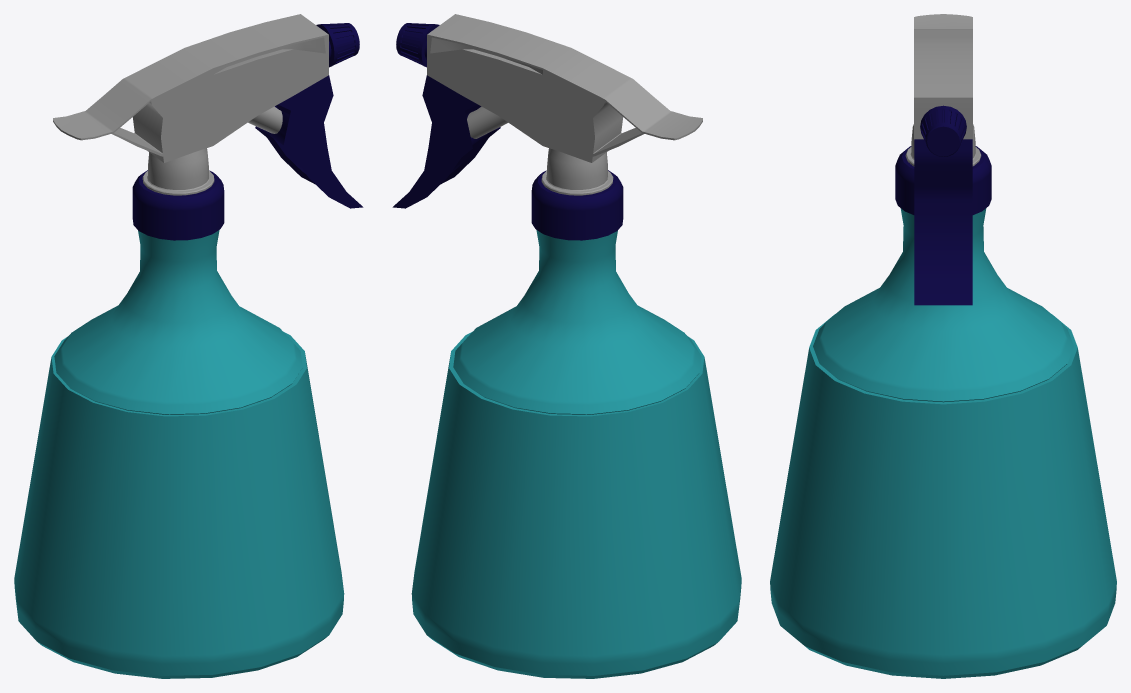
Rendered from SprayBottleModel.fbx.
The picture shows the model from 3 angles, left to right: view 1: azimuth 30°, elevation 25°; view 2: azimuth 150°, elevation 25°; view 3: azimuth 270°, elevation 25°; orthographic projection. The views are drawn at different scales.
Parts seen in each view (by area): view 1: BottlemainBase, pCylinder2, SprayBottleTop, pCube1, pCylinder1, BottleMid, BottleTip, pCylinder3; view 2: BottlemainBase, pCylinder2, SprayBottleTop, pCube1, pCylinder1, BottleMid, BottleTip, pCylinder3; view 3: BottlemainBase, pCylinder2, pCube1, SprayBottleTop, pCylinder1, BottleTip.
Part boxes in pixels (x1,y1,x2,y2): BottlemainBase: (14, 331, 344, 678); pCylinder2: (54, 230, 302, 414); SprayBottleTop: (53, 14, 328, 162); pCube1: (255, 75, 363, 208); pCylinder1: (132, 170, 224, 240); BottleMid: (142, 148, 214, 195); BottleTip: (316, 23, 359, 67); pCylinder3: (248, 106, 282, 133); BottlemainBase: (411, 331, 741, 678); pCylinder2: (453, 230, 701, 414); SprayBottleTop: (427, 14, 702, 162); pCube1: (392, 75, 500, 208); pCylinder1: (531, 170, 623, 240); BottleMid: (541, 148, 613, 195); BottleTip: (396, 23, 439, 67); pCylinder3: (467, 106, 507, 138); BottlemainBase: (770, 314, 1116, 678); pCylinder2: (813, 208, 1073, 402); pCube1: (914, 139, 972, 305); SprayBottleTop: (914, 14, 972, 139); pCylinder1: (895, 146, 991, 214); BottleTip: (920, 105, 966, 156).
Bounding box in the file's own units: 1.47 × 2.47 × 1.33.
